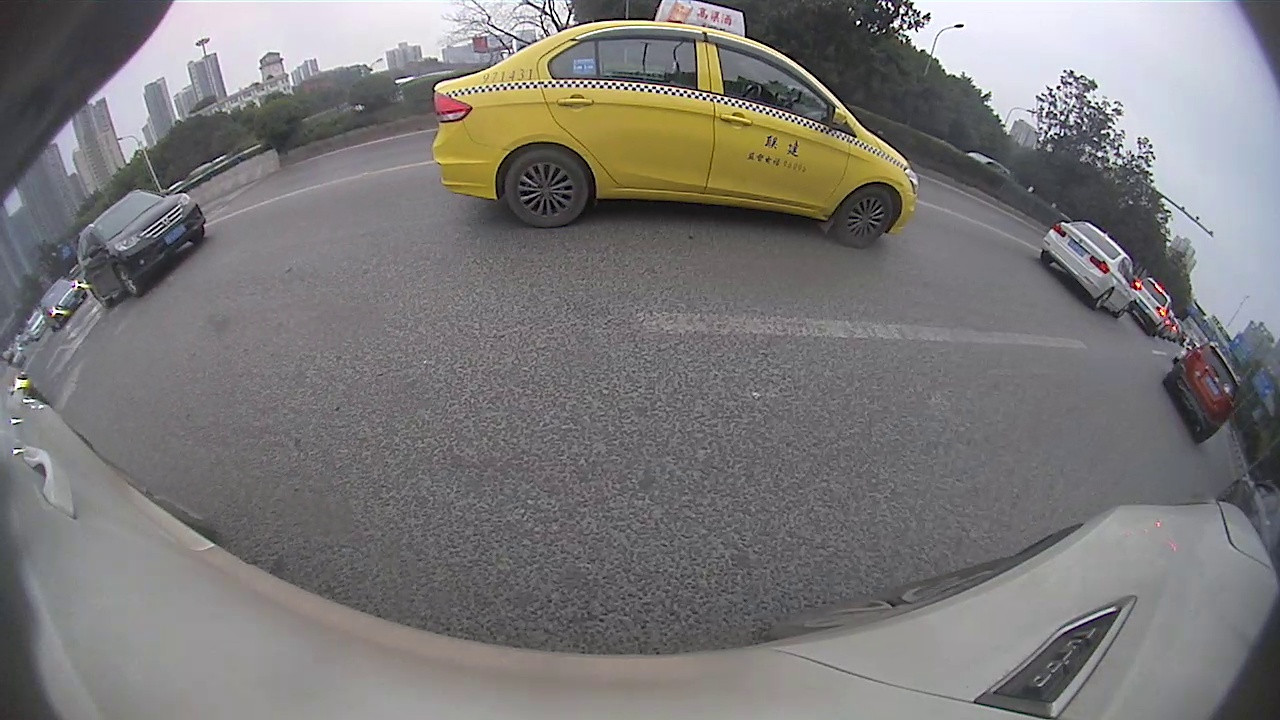car: (430, 1, 919, 247), (76, 188, 204, 309), (1041, 219, 1135, 318), (1164, 342, 1237, 447), (36, 278, 88, 329), (1135, 278, 1173, 336)
front: (833, 186, 896, 248), (114, 263, 144, 296)
rear: (503, 145, 592, 231), (1094, 288, 1118, 311), (90, 287, 109, 308)
